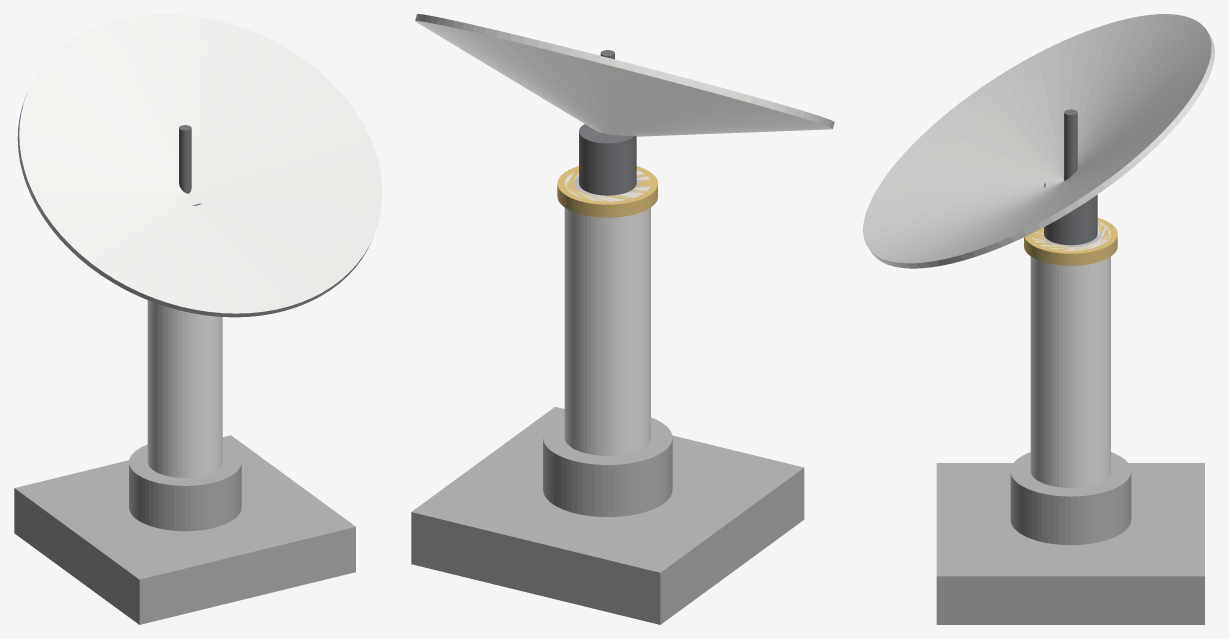
File: rover36_antenna_mast.glb
3 renders of one model, left to right at view 1: azimuth 30°, elevation 25°; view 2: azimuth 150°, elevation 25°; view 3: azimuth 270°, elevation 25°, orthographic. The views are drawn at different scales.
Parts seen in each view (by area): view 1: head_dish, base, mast_1, head_gimbal; view 2: base, mast_1, head_dish, head_gimbal, mast_collars; view 3: head_dish, base, mast_1, head_gimbal, mast_collars.
Boxes of the visible parts, x1,y1,x2,y2 form: head_dish: (17,14,382,317); base: (14,435,355,624); mast_1: (147,300,222,477); head_gimbal: (179,125,201,205); base: (411,407,804,624); mast_1: (564,170,650,455); head_dish: (415,14,834,136); head_gimbal: (579,50,636,195); mast_collars: (557,166,657,217); head_dish: (863,14,1214,268); base: (936,452,1204,624); mast_1: (1030,222,1110,487); head_gimbal: (1044,109,1097,245); mast_collars: (1024,218,1117,265).
Bounding box in the file's own units: 0.6 × 0.8565 × 0.5242.
